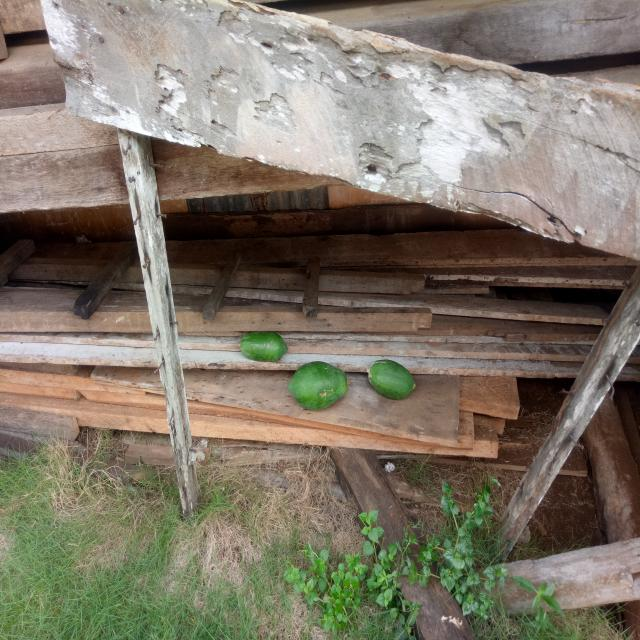Pepaya unrippen: (284, 361, 352, 414), (361, 354, 422, 407), (232, 320, 288, 369)
